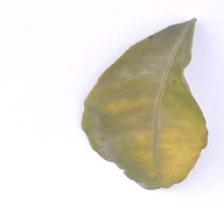greening: (127, 88, 212, 176)
